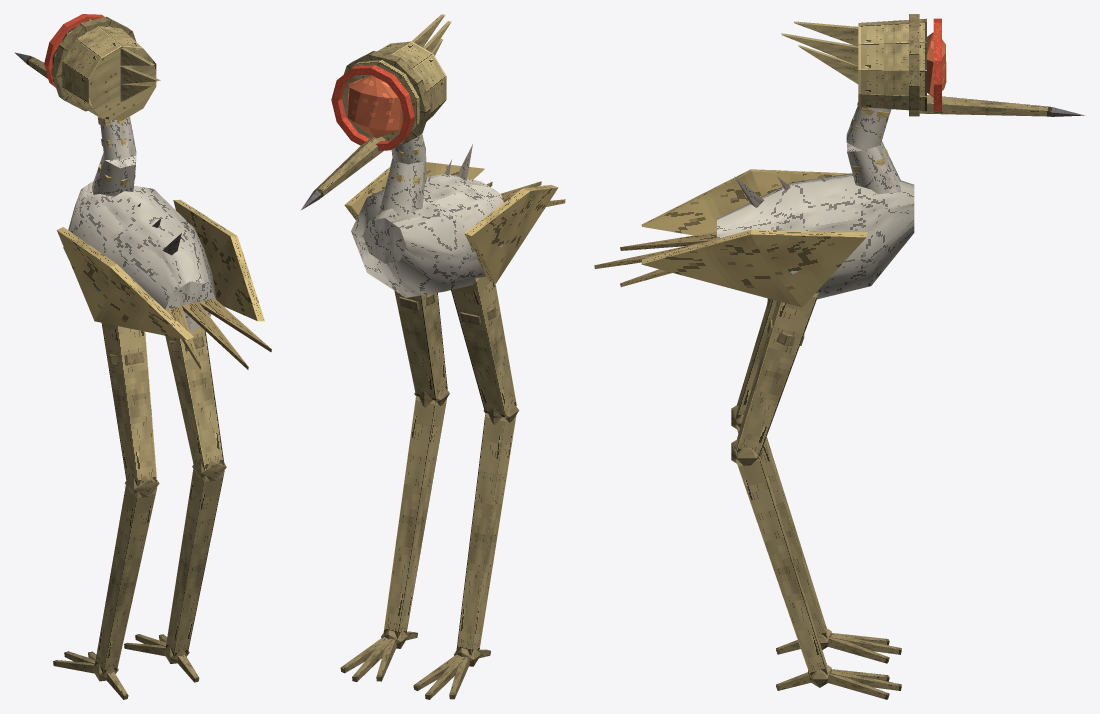
The model's file is enemy_heron.gltf.
3 views of the same model, side by side, from view 1: azimuth 30°, elevation 25°; view 2: azimuth 150°, elevation 25°; view 3: azimuth 270°, elevation 25° (orthographic). The views are drawn at different scales.
Parts seen in each view (by area): view 1: body, head, shin_l, shin_r, thigh_l, thigh_r, neck, ring; view 2: body, shin_l, shin_r, head, thigh_l, thigh_r, neck, lens, ring; view 3: body, head, shin_r, thigh_r, shin_l, neck, thigh_l, ring.
Part boxes in pixels (box(x1,y1,x2,y2)): body: box(57, 180, 271, 369); head: box(14, 16, 160, 120); shin_l: box(53, 475, 159, 699); shin_r: box(124, 458, 226, 682); thigh_l: box(101, 323, 157, 486); thigh_r: box(165, 326, 224, 470); neck: box(92, 116, 136, 196); ring: box(44, 14, 104, 87); body: box(344, 144, 565, 297); shin_l: box(413, 403, 519, 699); shin_r: box(340, 387, 449, 681); head: box(301, 14, 451, 210); thigh_l: box(451, 276, 516, 419); thigh_r: box(394, 291, 447, 403); neck: box(380, 134, 426, 216); lens: box(347, 75, 402, 138); ring: box(331, 65, 414, 150); body: box(594, 169, 914, 307); head: box(781, 14, 1084, 116); shin_r: box(731, 439, 901, 699); thigh_r: box(735, 292, 818, 458); shin_l: box(731, 404, 901, 663); neck: box(846, 102, 901, 194); thigh_l: box(735, 298, 776, 419); ring: box(933, 18, 941, 111).
Size of the model in its own units: 0.7192 by 3.35 by 2.29.
Materials: 9 (9 with a texture image).
